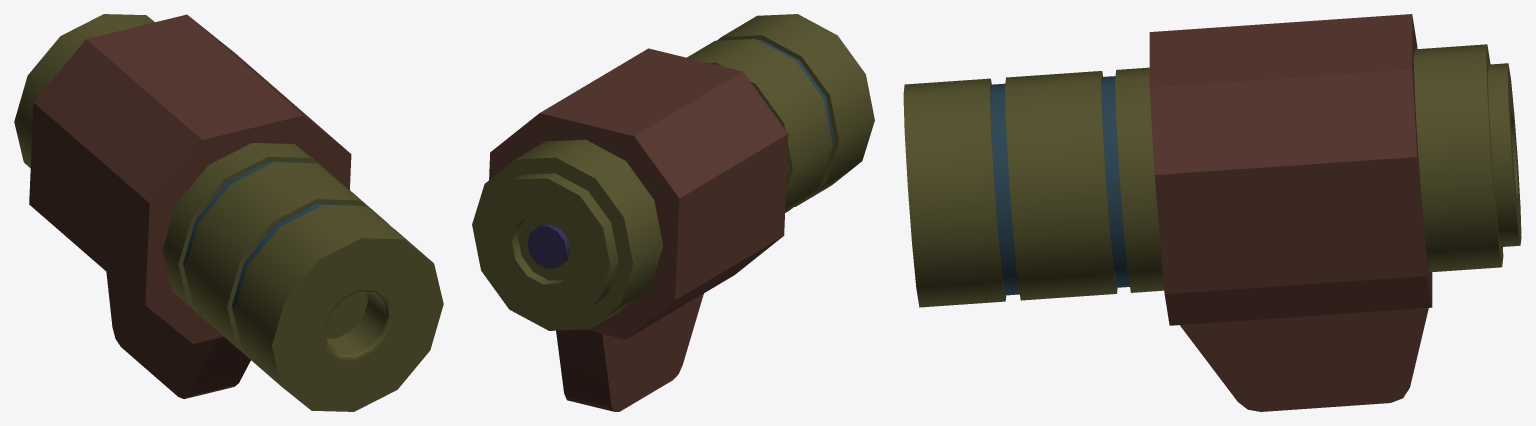
The model's file is staticMesh_module_Laser.fbx.
3 views of the same model, side by side, from view 1: azimuth 30°, elevation 25°; view 2: azimuth 150°, elevation 25°; view 3: azimuth 270°, elevation 25° (orthographic). The views are drawn at different scales.
Visible parts, largest first — view 1: polySurface12.001; view 2: polySurface12.001; view 3: polySurface12.001.
Part boxes in pixels (x1=…): polySurface12.001: x1=14, y1=14, x2=443, y2=411; polySurface12.001: x1=472, y1=14, x2=874, y2=411; polySurface12.001: x1=903, y1=14, x2=1521, y2=411.
Size of the model in its own units: 18.07 by 26.96 by 42.39.
